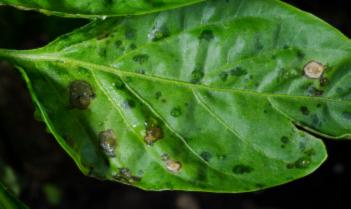Bell_pepper leaf: (30, 8, 351, 193)
